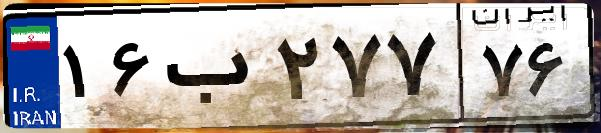1: (57, 26, 110, 100)
2: (270, 28, 330, 110)
6: (525, 38, 570, 115), (110, 28, 158, 98)
7: (385, 28, 445, 110), (330, 28, 385, 110), (475, 38, 525, 113)
ب: (158, 20, 270, 120)
